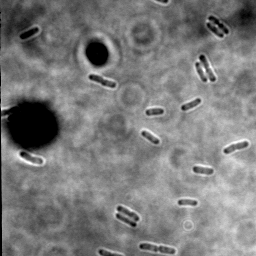Dividing: (198, 54, 217, 82), (88, 73, 118, 90), (207, 14, 231, 35), (139, 242, 177, 255), (116, 204, 141, 222), (223, 140, 250, 155), (18, 151, 44, 166)
Rod: (18, 25, 41, 41), (140, 129, 161, 146), (115, 213, 137, 229), (194, 60, 209, 83), (180, 97, 202, 112), (206, 21, 224, 39), (192, 164, 214, 176), (176, 197, 199, 207), (145, 107, 165, 117)
